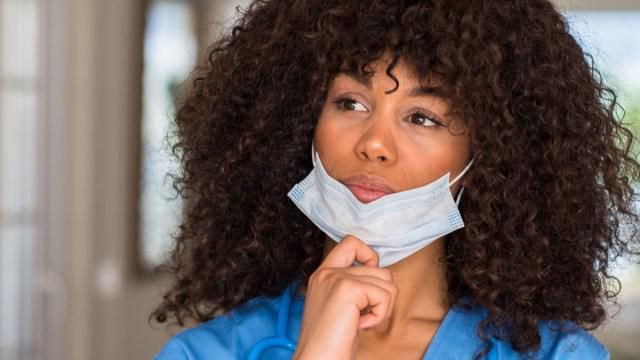mask_weared_incorrect: (302, 82, 459, 248)
